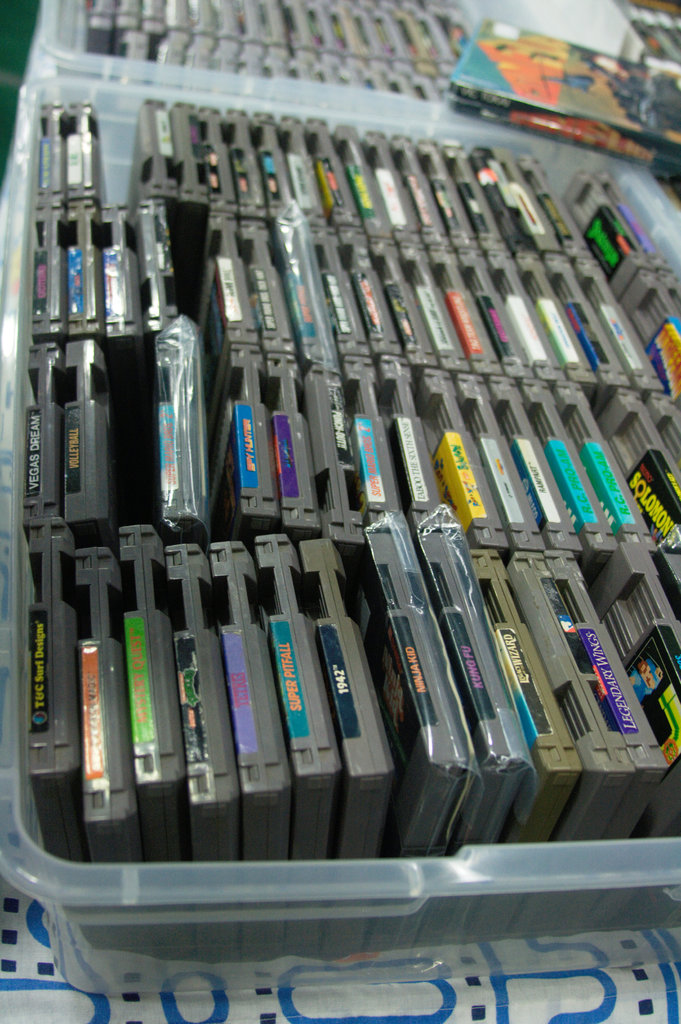Book: (438, 8, 680, 180)
